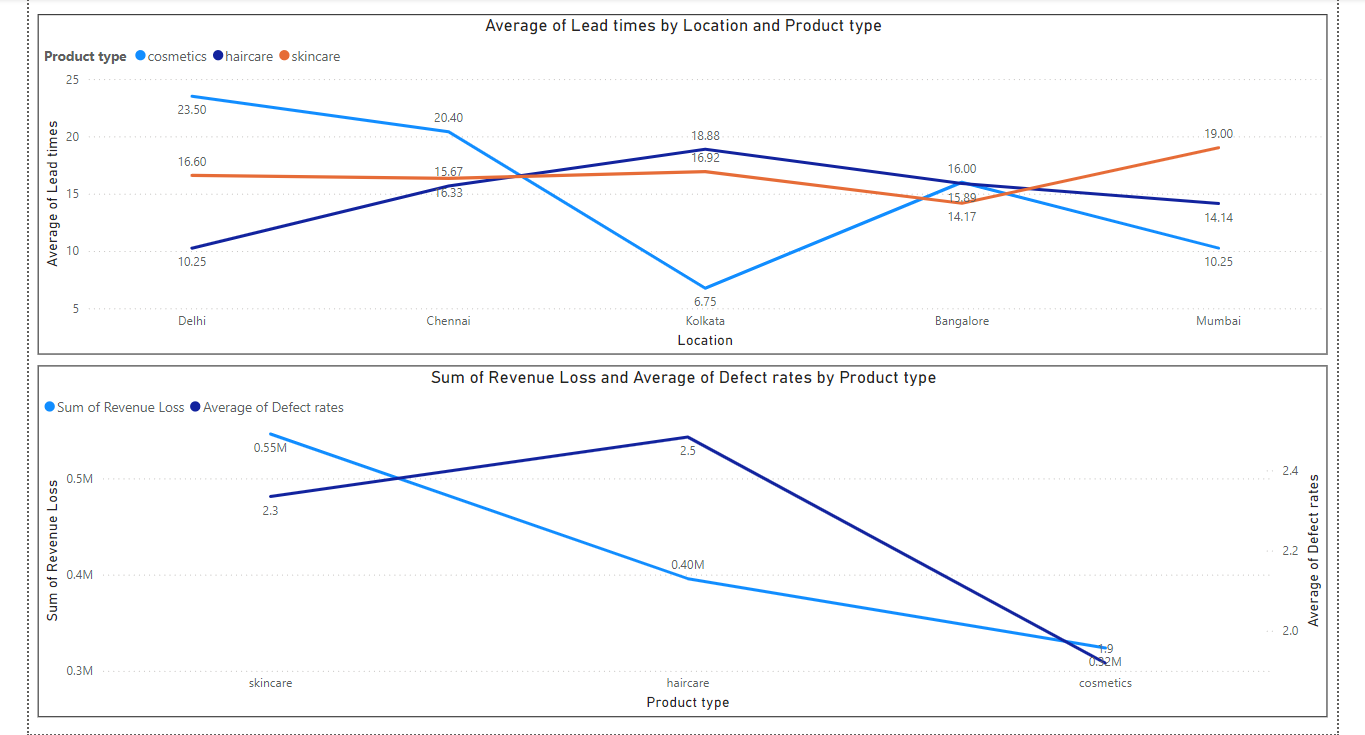

What the dashboard file says about the page in this screenshot:
{"tool":"powerbi","page":{"name":"Page 4","canvas":[1280,720],"ordinal":3},"visuals":[{"type":"lineChart","fields":{"Category":["scm_analysis.Product type"],"Y2":["Avg(scm_analysis.Defect rates)"],"Y":["Sum(scm_analysis.Revenue Loss)"]},"box":[8.6,359.5,1262,343.6],"z":0},{"type":"lineChart","fields":{"Y":["Avg(scm_analysis.Lead times)"],"Category":["scm_analysis.Location"],"Series":["scm_analysis.Product type"]},"box":[8.6,15.9,1262,332.6],"z":1000}]}

Visuals, with their boxes on the page's 1280x720 design canvas (x1, y1, x2, y2). These are canvas units, not pixel positions in the 1365x735 screenshot, which may show the page scaled, cropped or inside an application window:
lineChart - scm_analysis.Product type x Avg(scm_analysis.Defect rates): x1=9 y1=360 x2=1271 y2=703
lineChart - Avg(scm_analysis.Lead times) x scm_analysis.Location: x1=9 y1=16 x2=1271 y2=348
